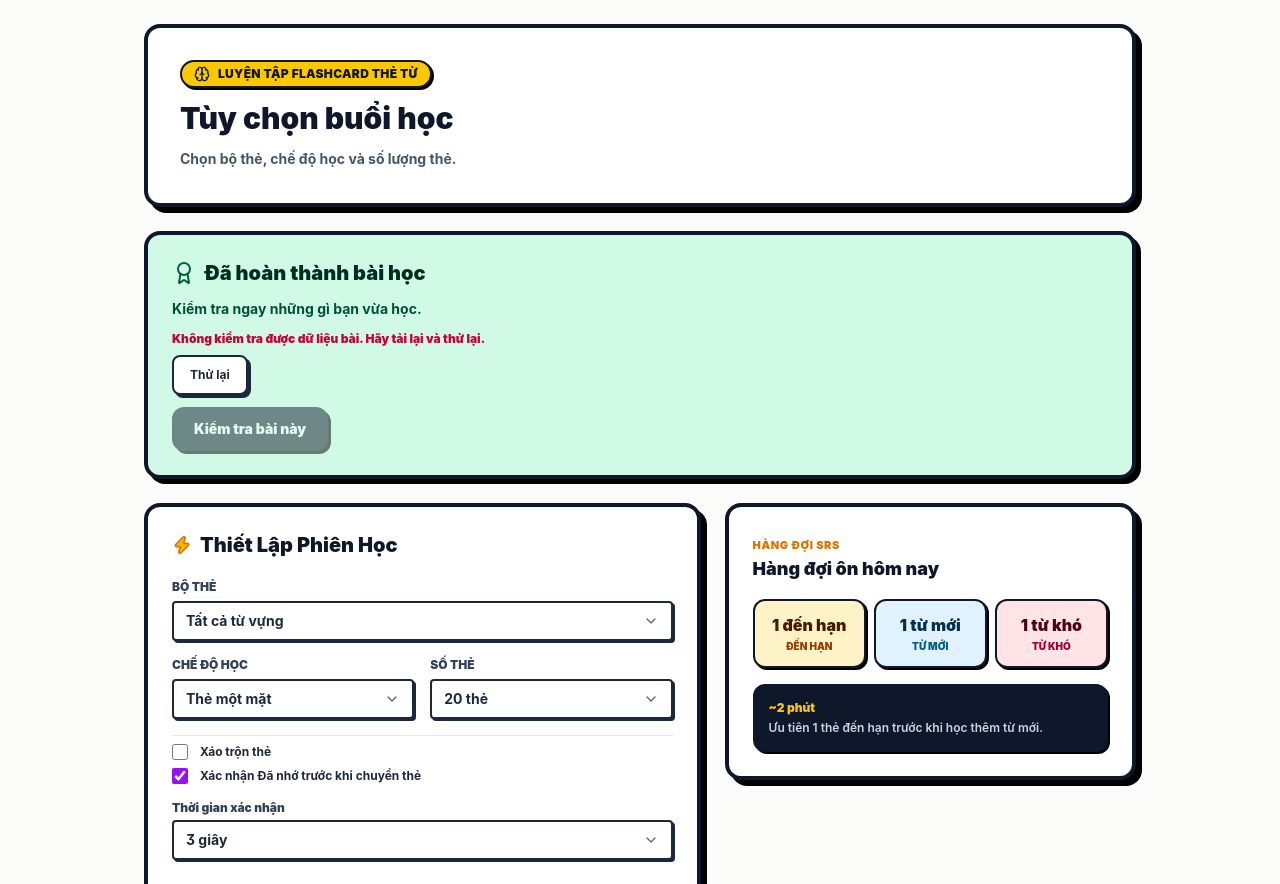
StudySetupPage › allows retrying completed-deck quiz availability after loading fails
Expected: the text "Không kiểm tra được dữ liệu bài. Hãy tải lại và thử lại." is shown, [172,331,485,346]
Click the button "Thử lại" at x=210, y=375, box [172,355,248,395]
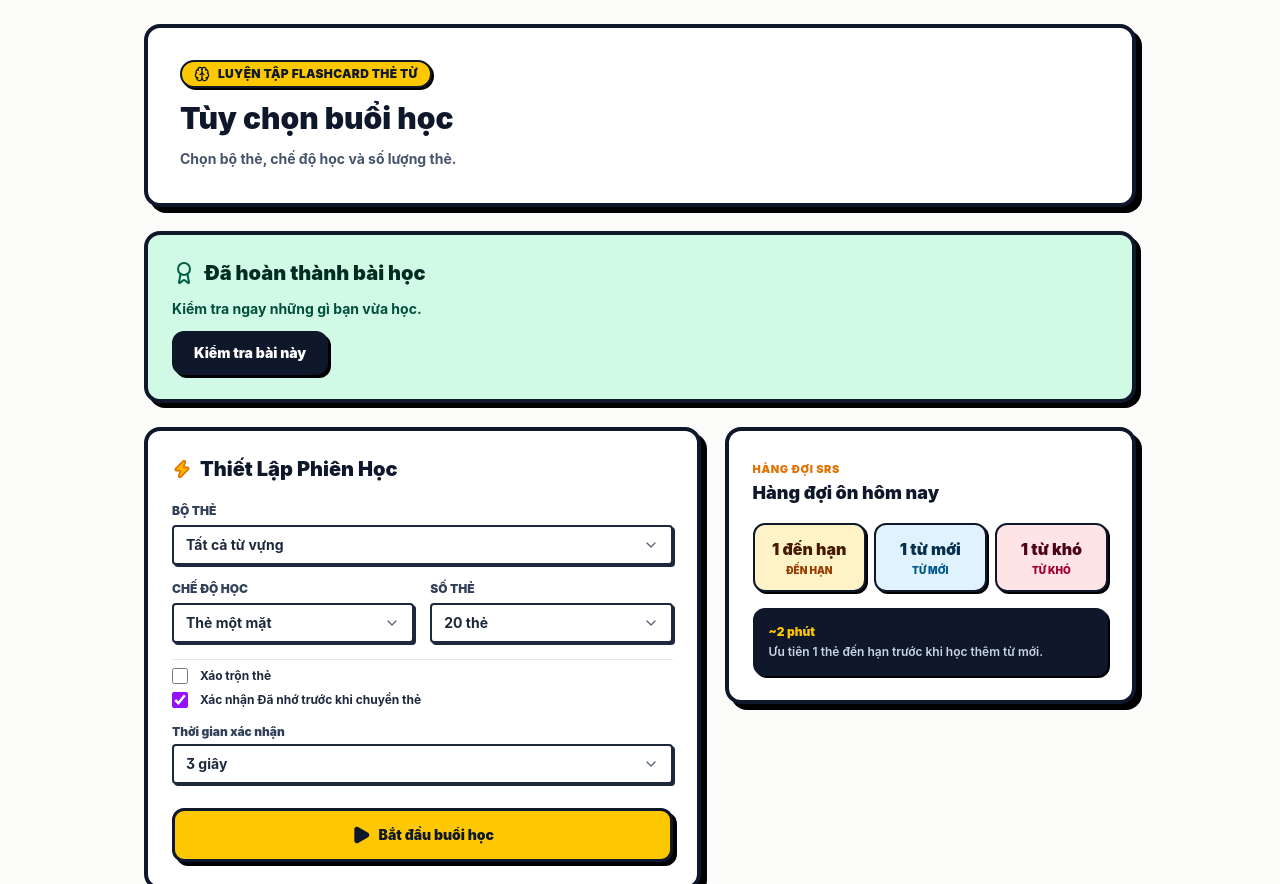
Now the button "Kiểm tra bài này" is enabled, box [172,331,328,375]
